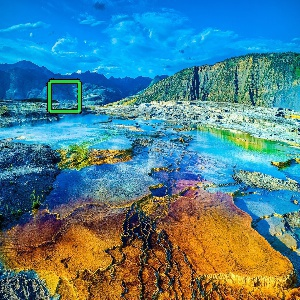square: (45, 77, 83, 114)
